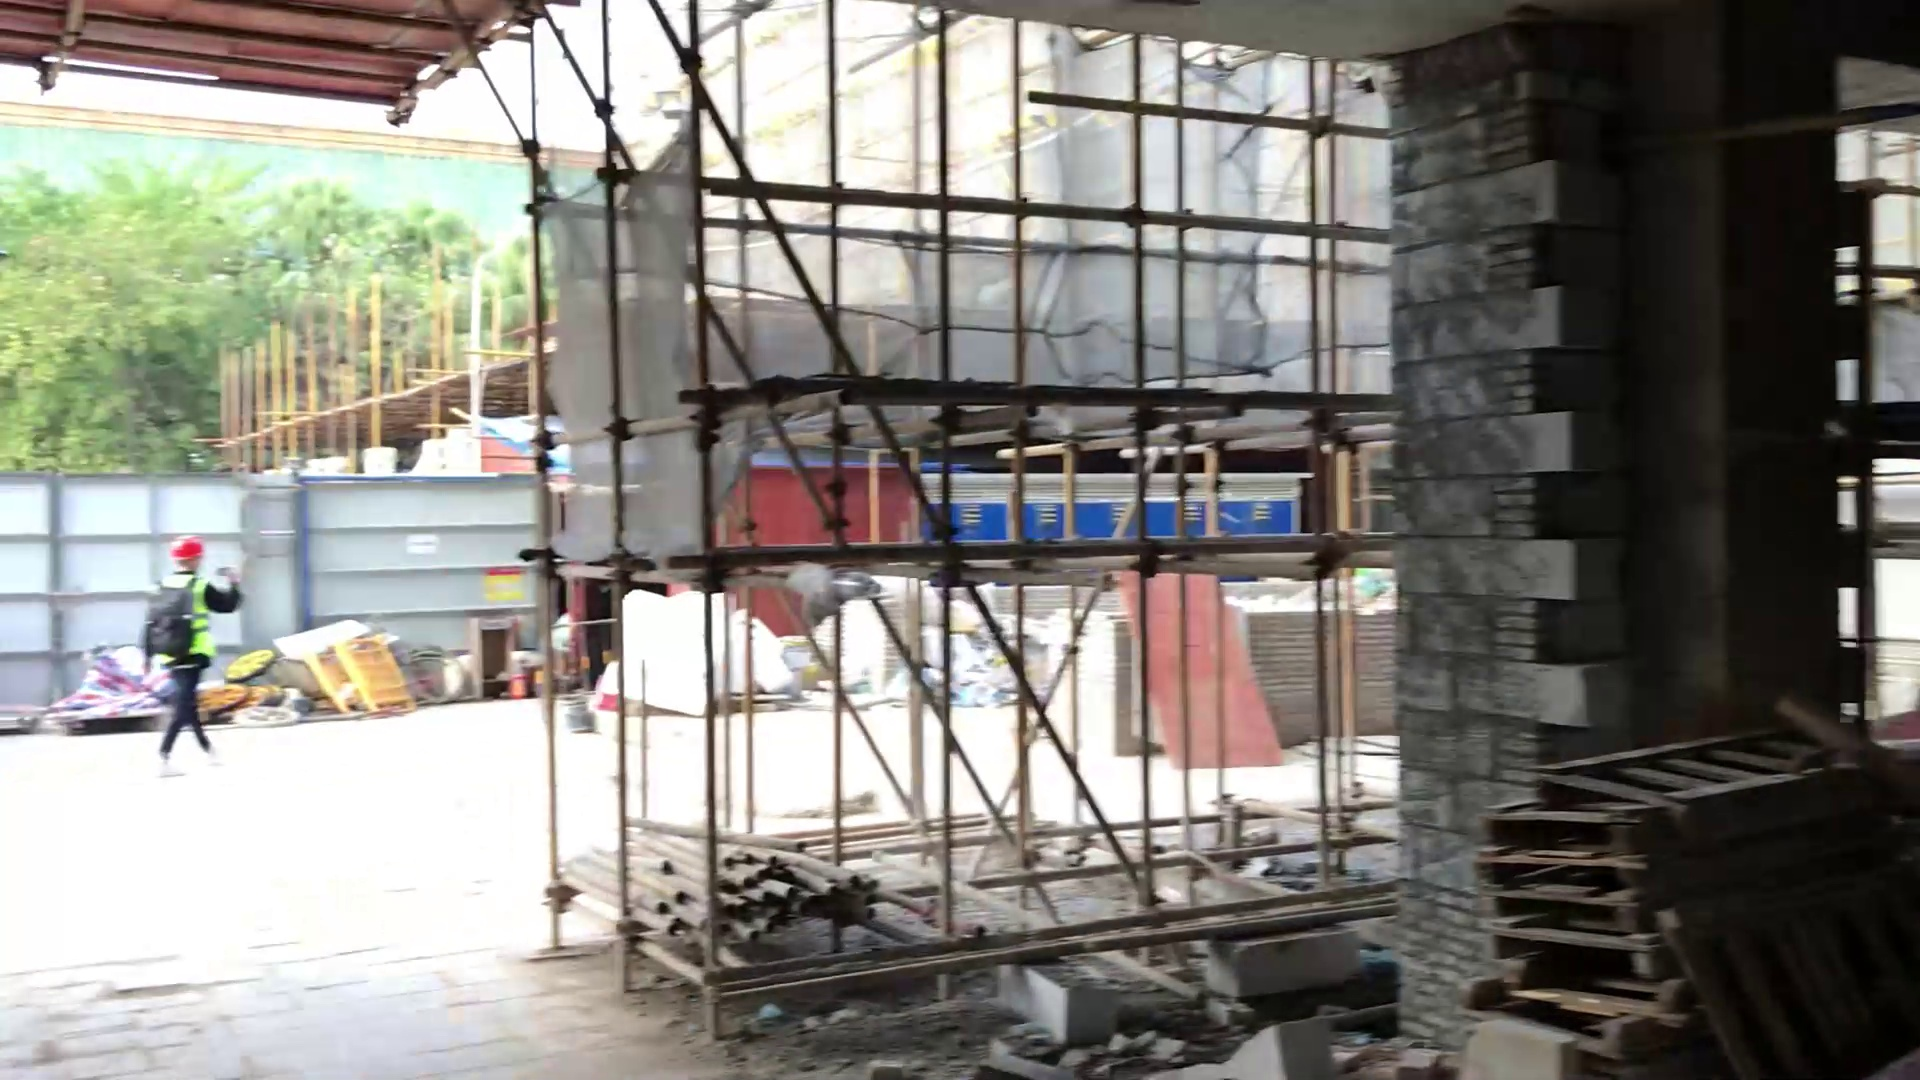helmet: (162, 532, 211, 565)
person: (144, 524, 245, 780)
vest: (149, 569, 222, 661)
